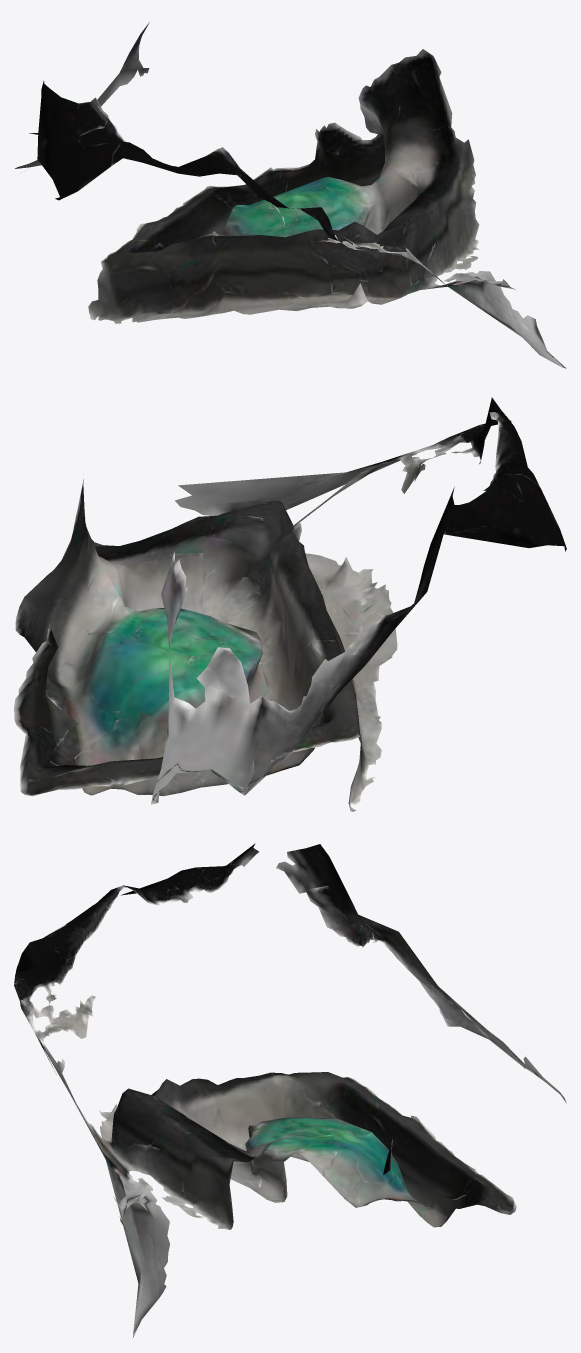
Rendered from hall.glb.
3 views of the same model, one above another, from view 1: azimuth 30°, elevation 25°; view 2: azimuth 150°, elevation 25°; view 3: azimuth 270°, elevation 25° (orthographic). The views are drawn at different scales.
Bounding box in the file's own units: 0.672 × 0.4417 × 0.7336.
Materials: 1 (1 with a texture image).
